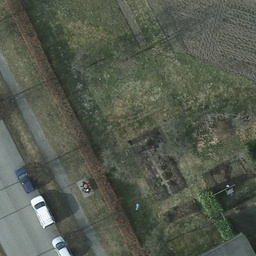car: (31, 197, 52, 228), (15, 162, 35, 193), (52, 234, 71, 256)
